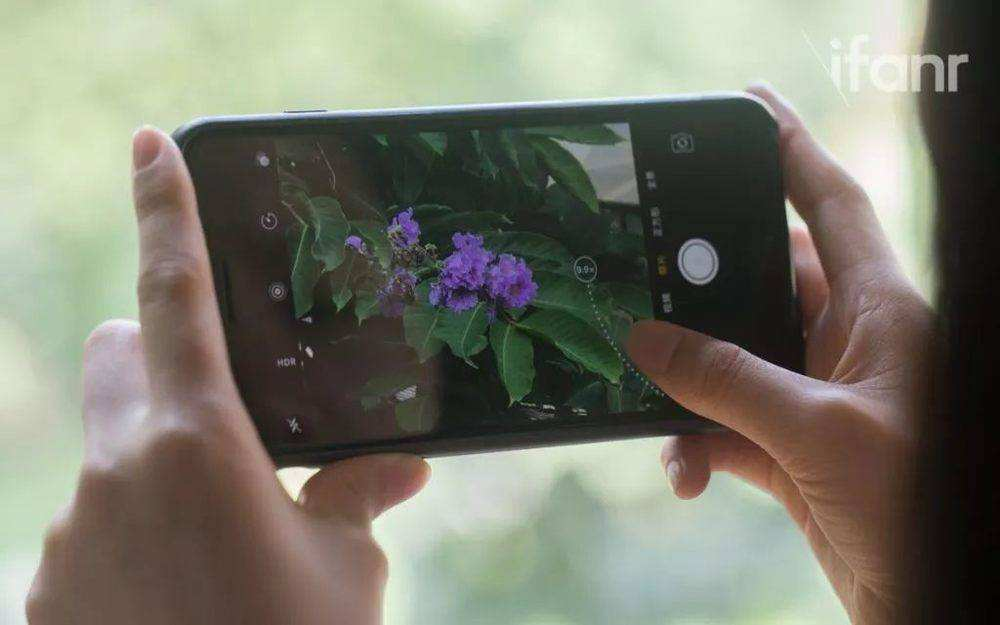taking photos: (18, 74, 919, 622)
